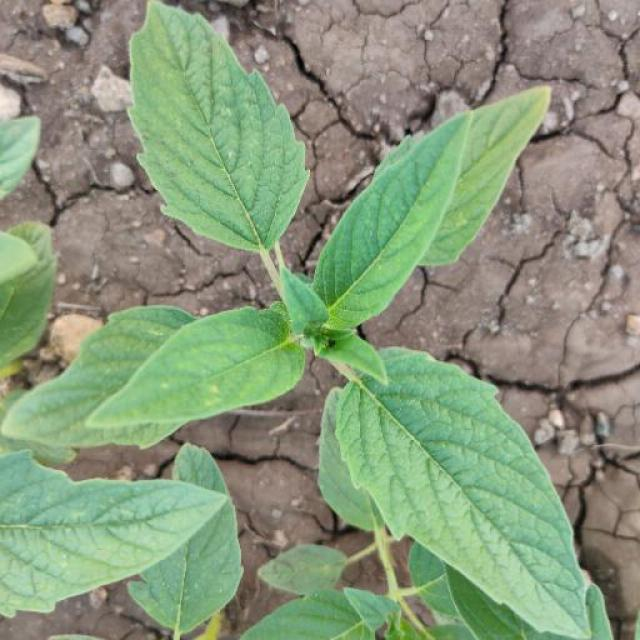crop: (38, 29, 606, 640)
